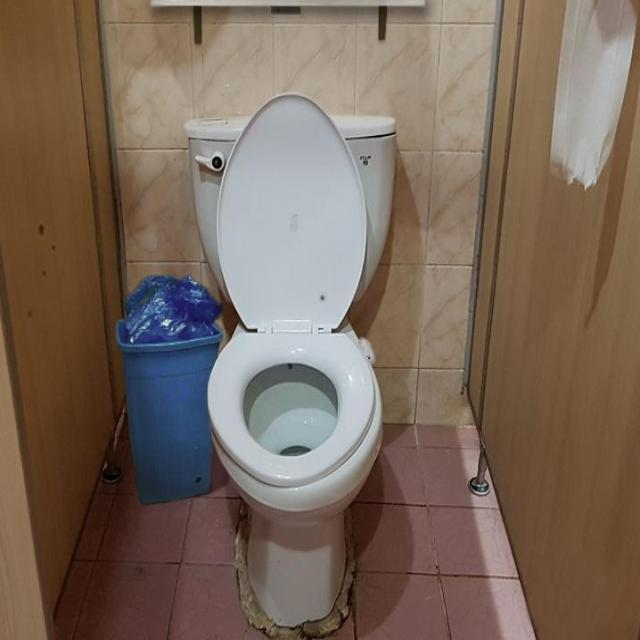hidden camera: (314, 283, 333, 312), (189, 465, 207, 493), (34, 214, 49, 243), (283, 353, 298, 376), (361, 348, 376, 370), (270, 5, 286, 17)
